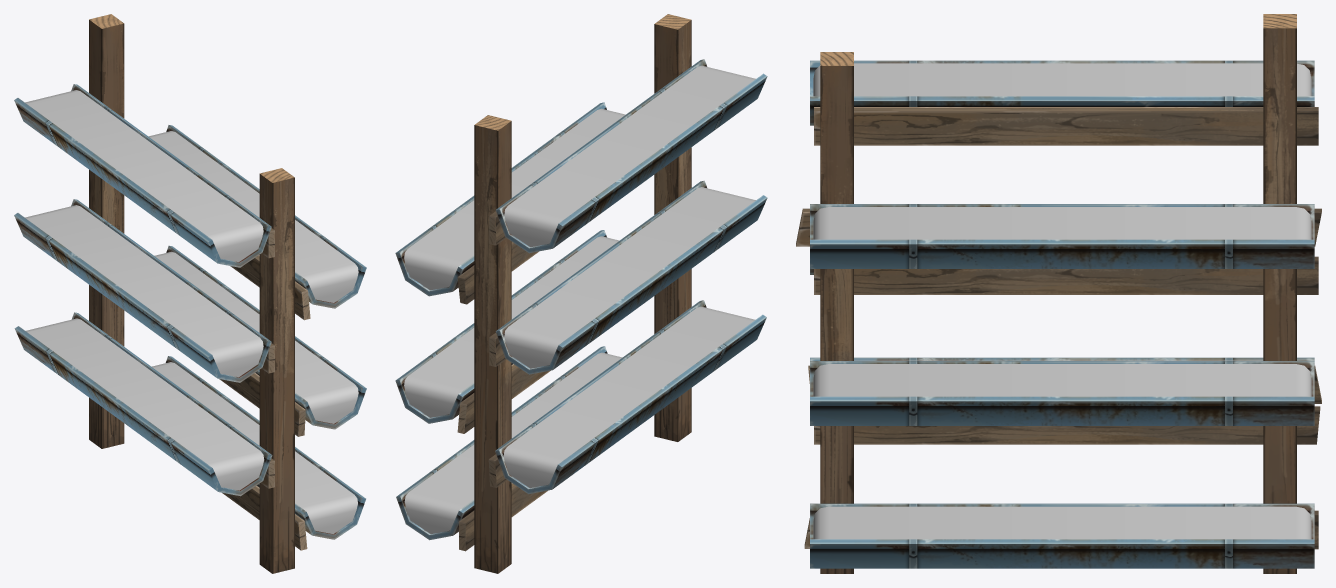
Rendered from gutterPlanter03.fbx.
3 renders of one model, left to right at view 1: azimuth 30°, elevation 25°; view 2: azimuth 150°, elevation 25°; view 3: azimuth 270°, elevation 25°, orthographic. The views are drawn at different scales.
Parts seen in each view (by area): view 1: gutterPlanter03; view 2: gutterPlanter03; view 3: gutterPlanter03.
Part boxes in pixels (x1,y1,x2,y2): gutterPlanter03: (14, 14, 366, 573); gutterPlanter03: (395, 14, 767, 573); gutterPlanter03: (796, 14, 1321, 573).
Bounding box in the file's own units: 74.84 × 189 × 165.
